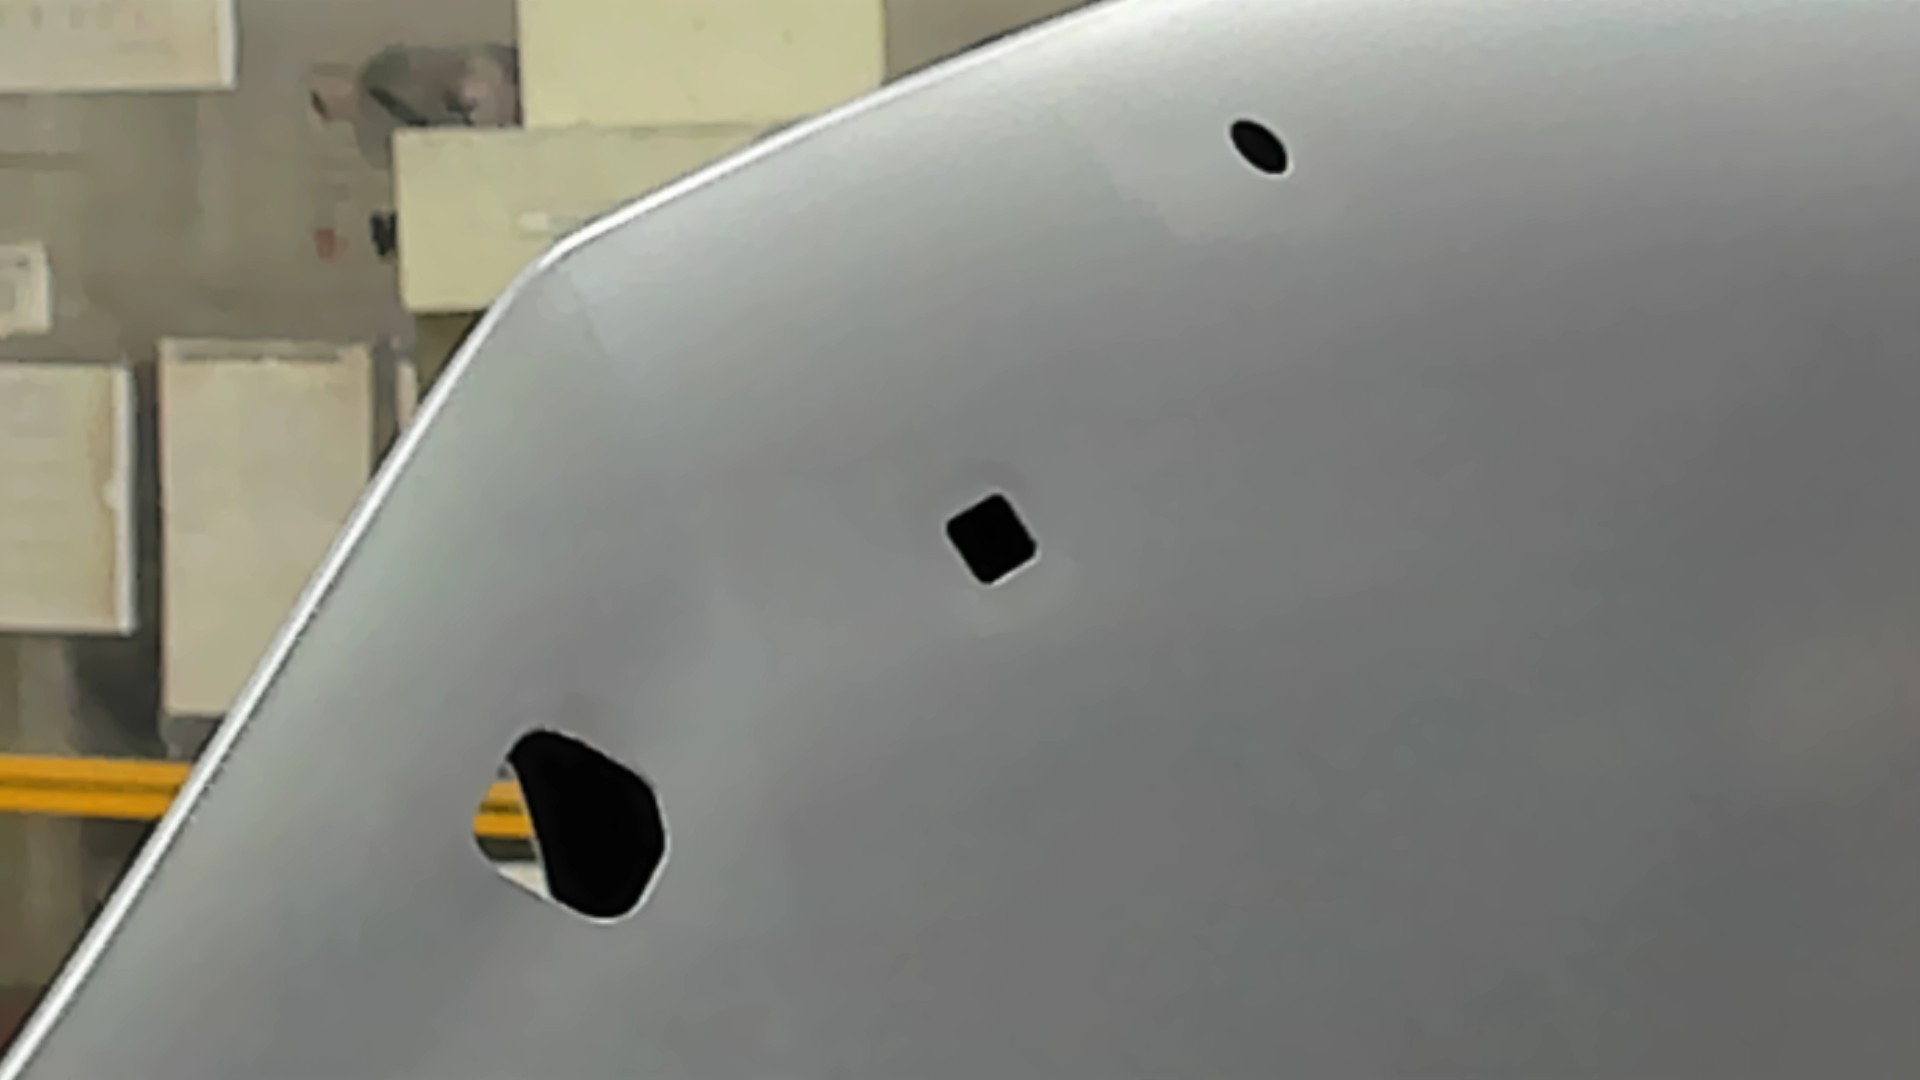chico: (1225, 115, 1295, 177)
grande: (468, 719, 678, 931)
mediano: (942, 487, 1043, 592)
